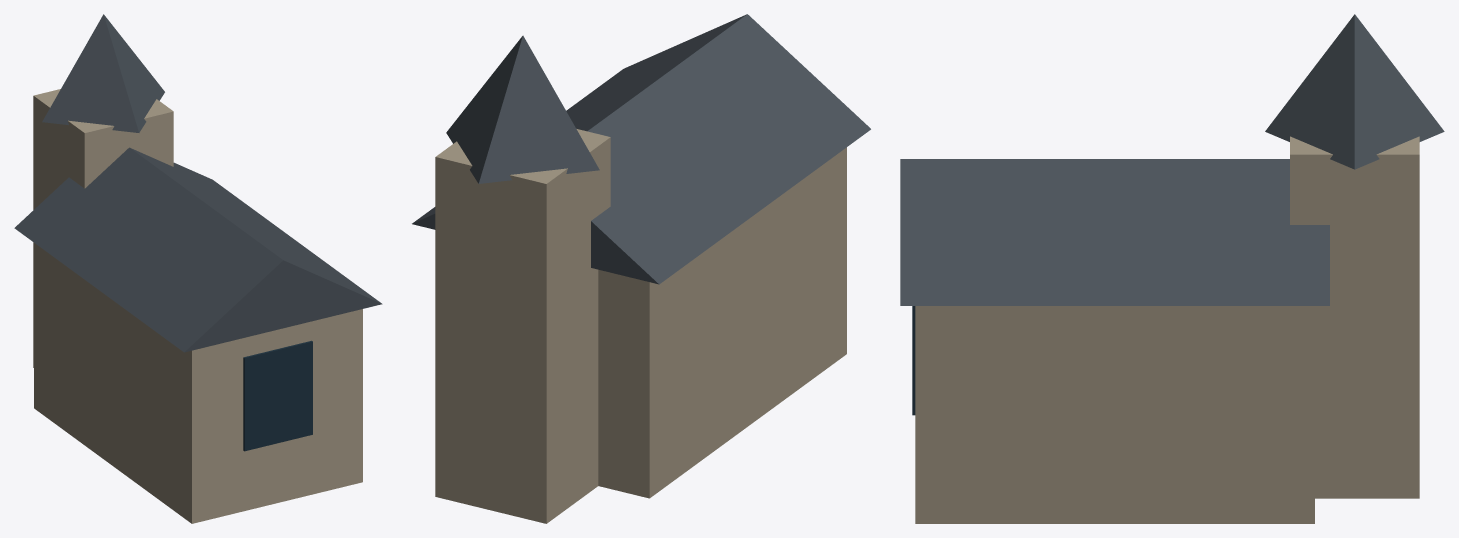
Rendered from church_stone.glb.
3 views of the same model, side by side, from view 1: azimuth 30°, elevation 25°; view 2: azimuth 150°, elevation 25°; view 3: azimuth 270°, elevation 25° (orthographic). The views are drawn at different scales.
Visible parts, largest first — view 1: CLChurch; view 2: CLChurch; view 3: CLChurch.
Boxes of the visible parts, x1,y1,x2,y2 form: CLChurch: [14, 14, 382, 523]; CLChurch: [412, 14, 870, 523]; CLChurch: [900, 14, 1444, 523].
Size of the model in its own units: 0.58 by 1.01 by 1.09.
